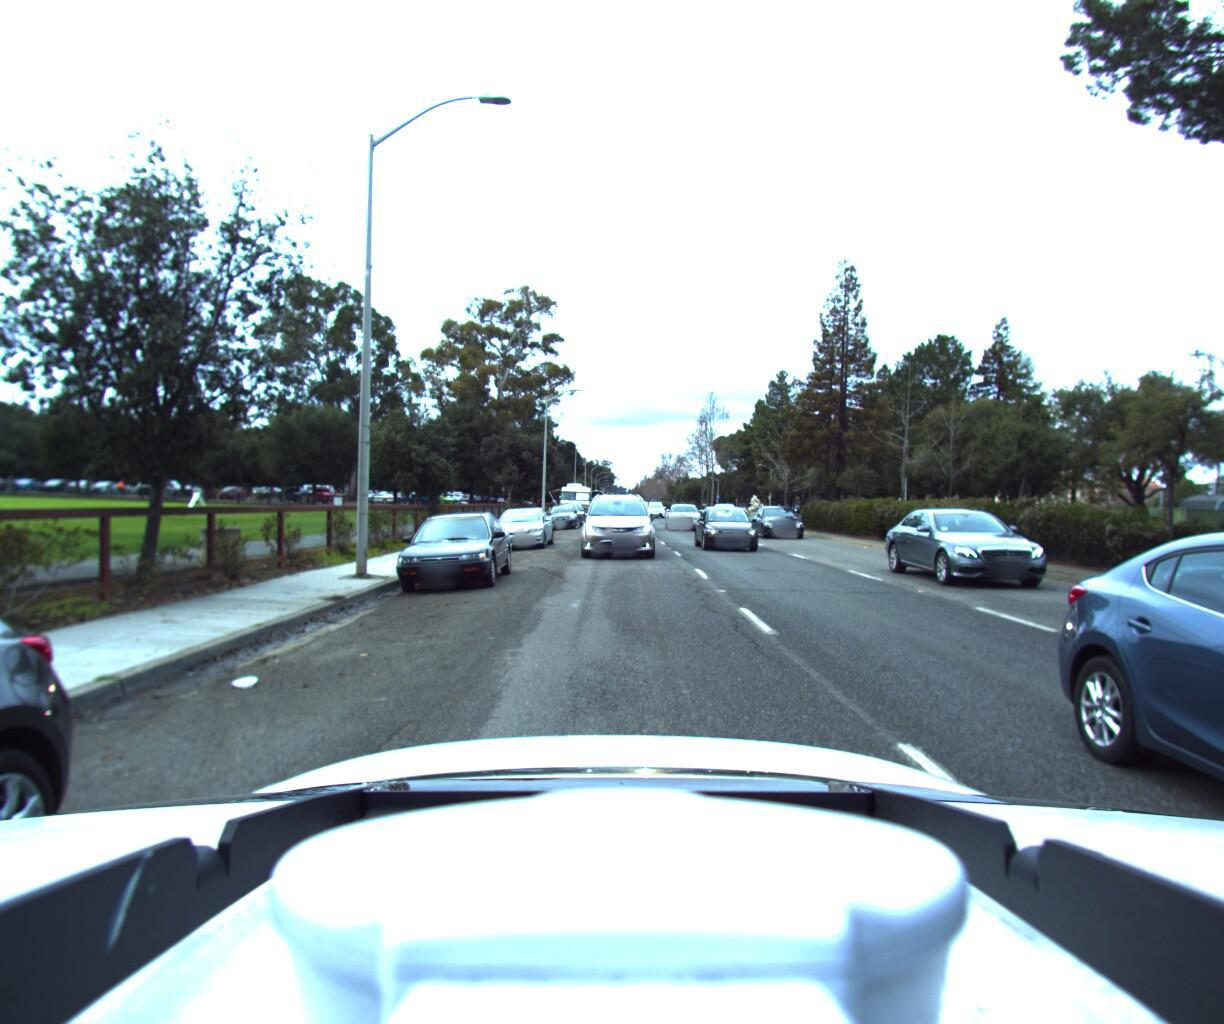car: (1138, 515, 1224, 1024), (890, 498, 1086, 596), (379, 507, 521, 595), (577, 485, 666, 561), (696, 503, 773, 553), (486, 504, 554, 553), (750, 498, 815, 539), (664, 500, 703, 533), (706, 497, 741, 527), (542, 502, 579, 530), (646, 498, 666, 516)
other_vehicle: (555, 479, 593, 521)
